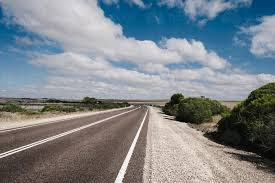strada: (7, 104, 148, 183)
